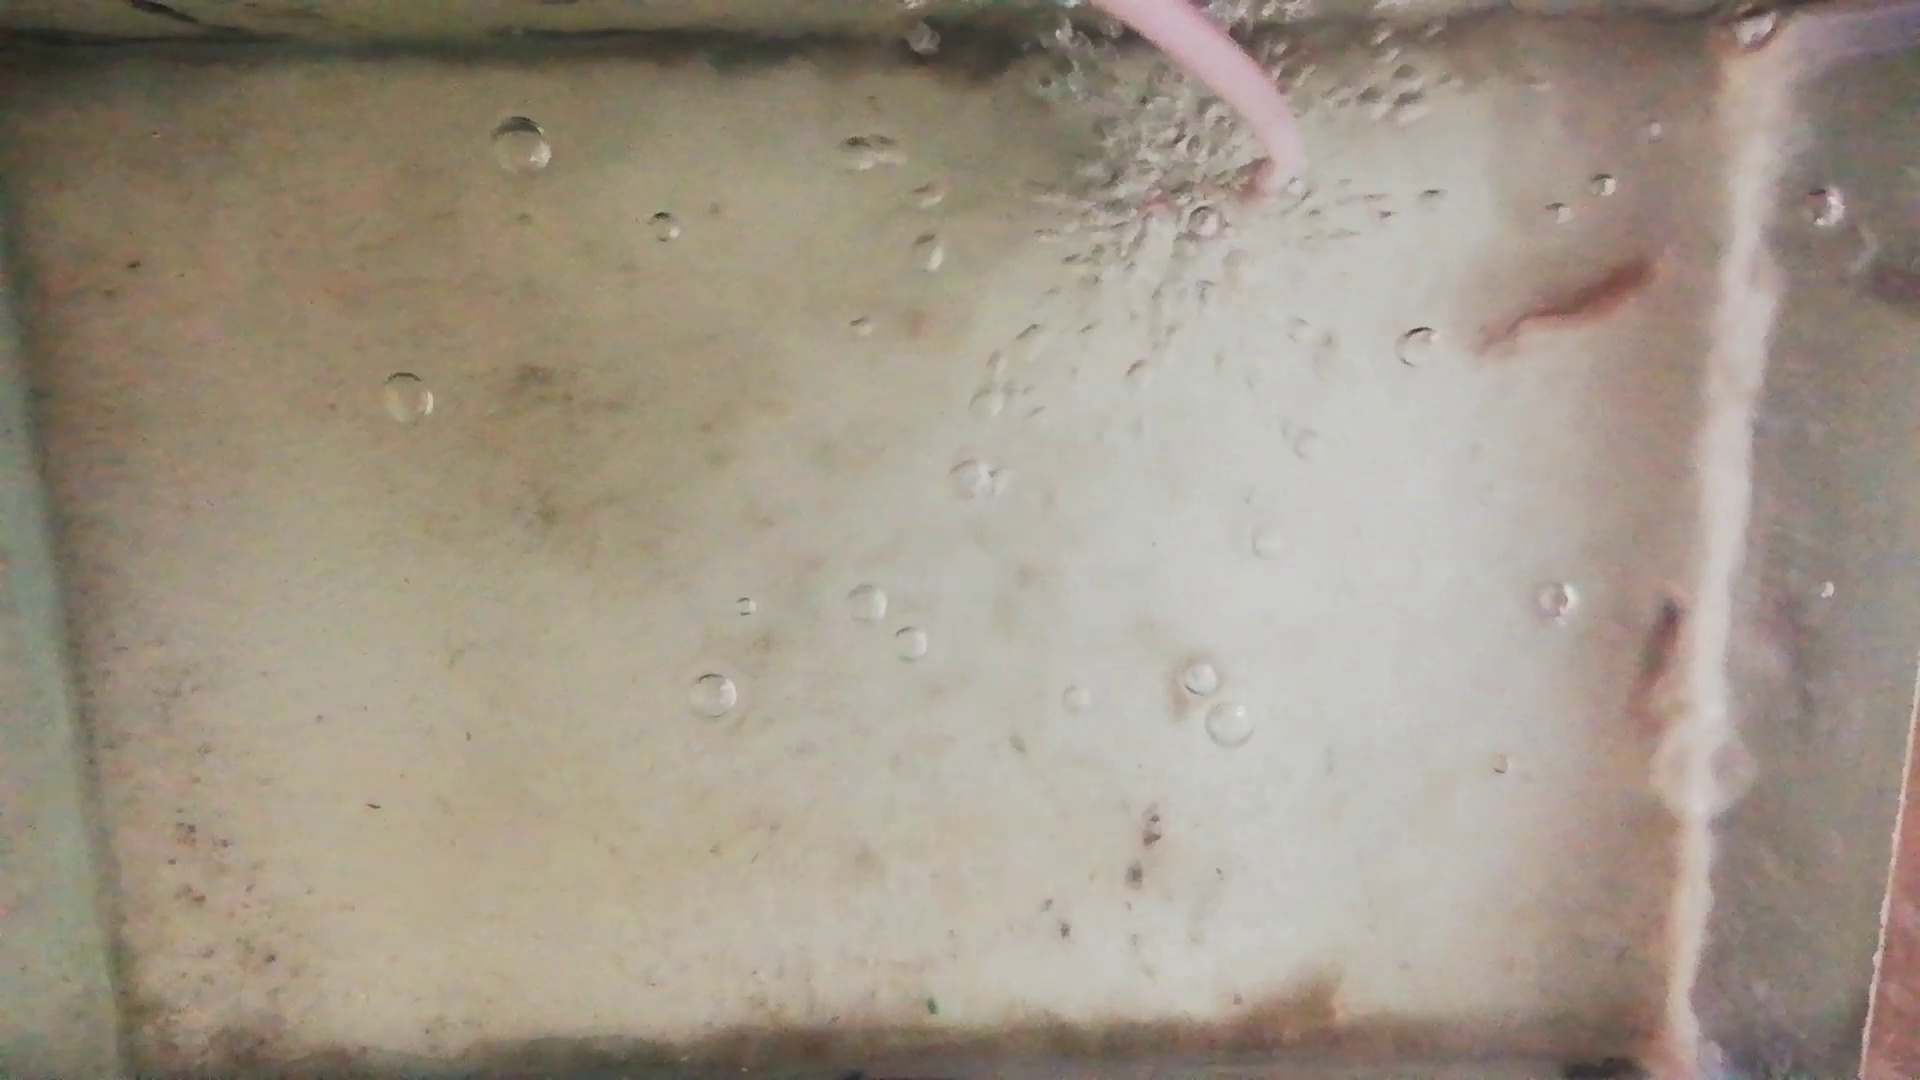fish: (1480, 258, 1658, 348), (1625, 592, 1687, 732)
